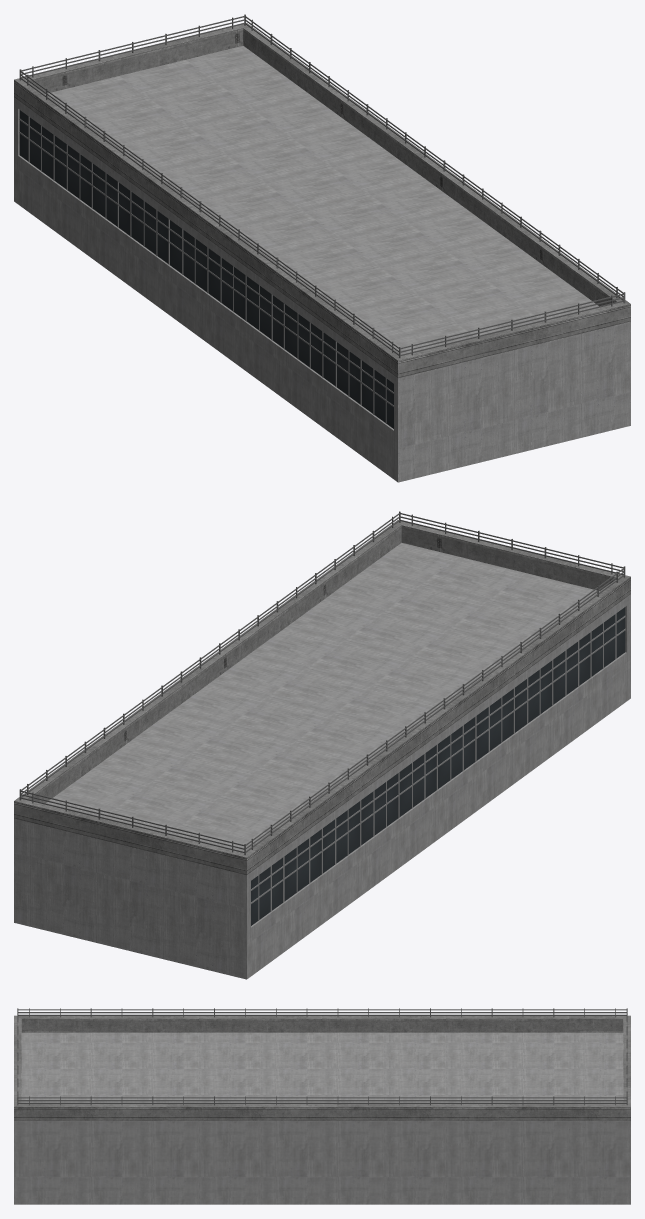
File: HH_Service_Block.fbx
3 renders of one model, top to bottom at view 1: azimuth 30°, elevation 25°; view 2: azimuth 150°, elevation 25°; view 3: azimuth 270°, elevation 25°, orthographic. The views are drawn at different scales.
Parts seen in each view (by area): view 1: HH_Service_Block; view 2: HH_Service_Block; view 3: HH_Service_Block.
Boxes of the visible parts, x1,y1,x2,y2 form: HH_Service_Block: [14, 14, 630, 482]; HH_Service_Block: [14, 511, 630, 979]; HH_Service_Block: [14, 1008, 630, 1204].
Size of what is drawn, in the model's own units: 1400 by 762 by 4000.
